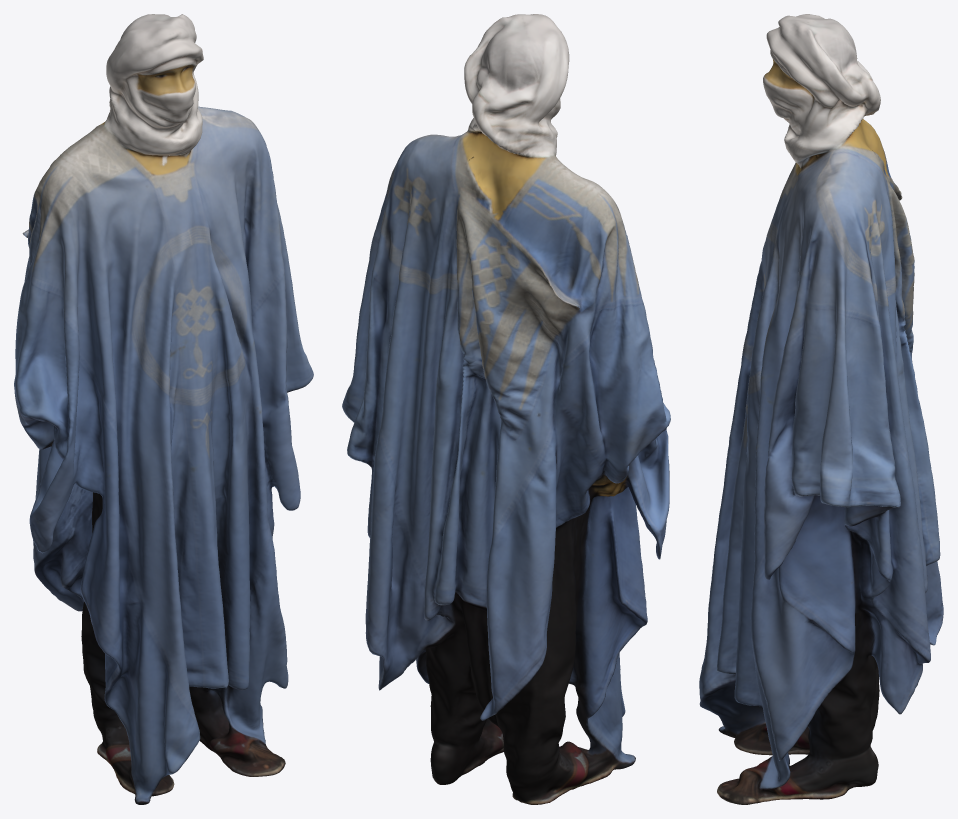
The model's file is tekamist_mens_attire_and_tagulemust-_turban.glb.
The picture shows the model from 3 angles, left to right: view 1: azimuth 30°, elevation 25°; view 2: azimuth 150°, elevation 25°; view 3: azimuth 270°, elevation 25°; orthographic projection. The views are drawn at different scales.
Parts seen in each view (by area): view 1: Object_3, Object_2, Object_4; view 2: Object_3, Object_2, Object_4; view 3: Object_2, Object_3, Object_4.
Boxes of the visible parts, x1,y1,x2,y2 form: Object_3: (14,14,313,804); Object_2: (17,65,288,804); Object_4: (19,14,306,773); Object_3: (342,14,670,804); Object_2: (363,83,669,803); Object_4: (356,16,655,781); Object_2: (700,75,943,804); Object_3: (699,14,942,804); Object_4: (724,15,917,788).
Size of the model in its own units: 0.5694 by 1.33 by 0.3949.
1 material, 1 textured.
